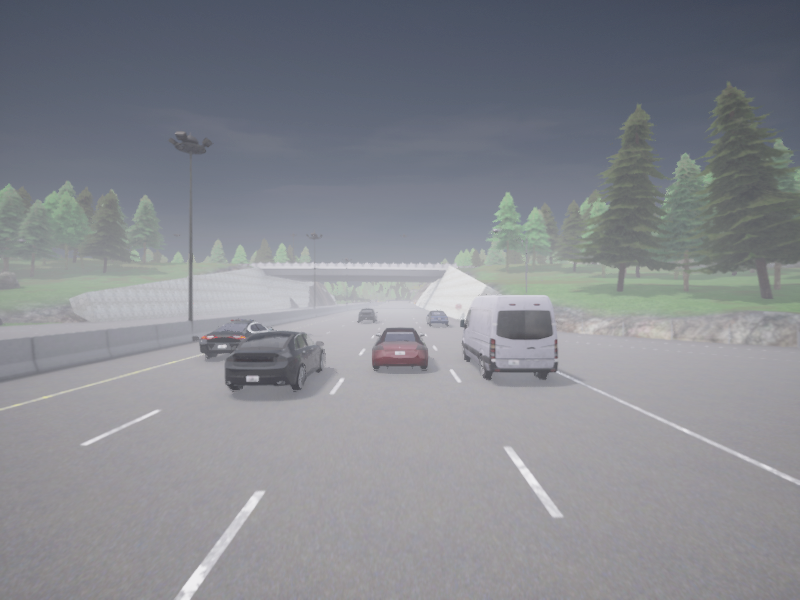vehicle: (460, 295, 557, 377), (225, 330, 324, 390), (199, 319, 273, 357), (372, 327, 427, 369), (426, 311, 448, 325), (358, 308, 378, 322)
